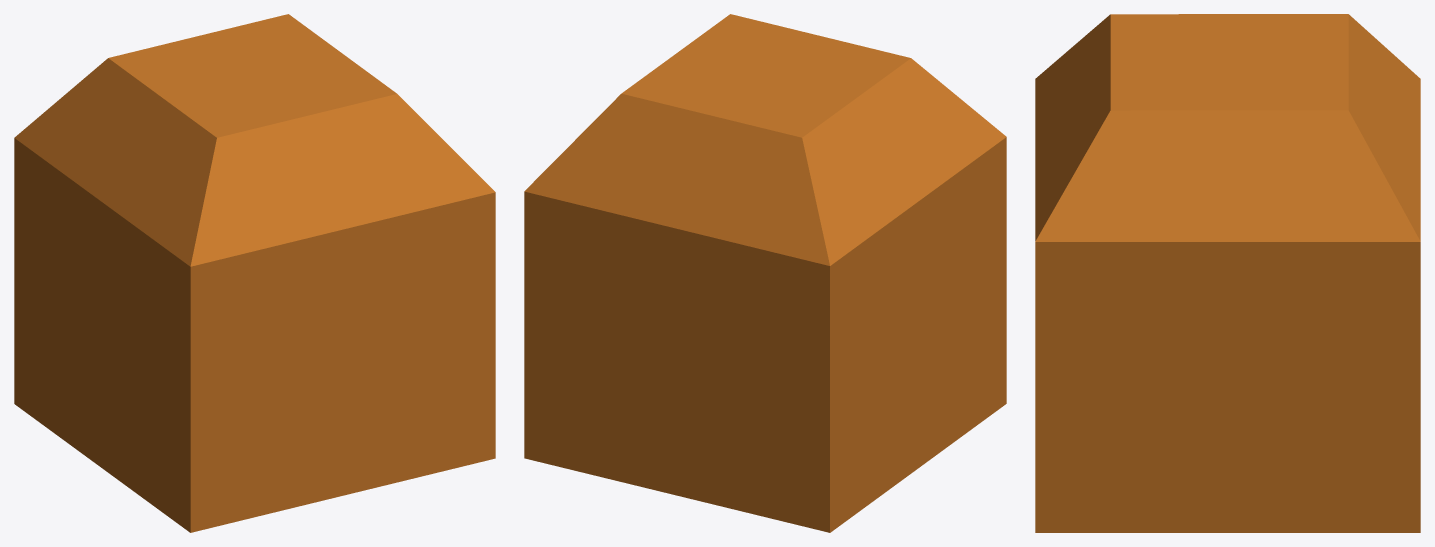
The model's file is CargoContent.dae.
3 renders of one model, left to right at view 1: azimuth 30°, elevation 25°; view 2: azimuth 150°, elevation 25°; view 3: azimuth 270°, elevation 25°, orthographic. The views are drawn at different scales.
Parts seen in each view (by area): view 1: SketchUp; view 2: SketchUp; view 3: SketchUp.
Boxes of the visible parts, left/top/right/bottom form: SketchUp: left=14, top=14, right=495, bottom=532; SketchUp: left=524, top=14, right=1006, bottom=532; SketchUp: left=1035, top=14, right=1420, bottom=532.
Size of the model in its own units: 39.33 by 39.33 by 43.75.
